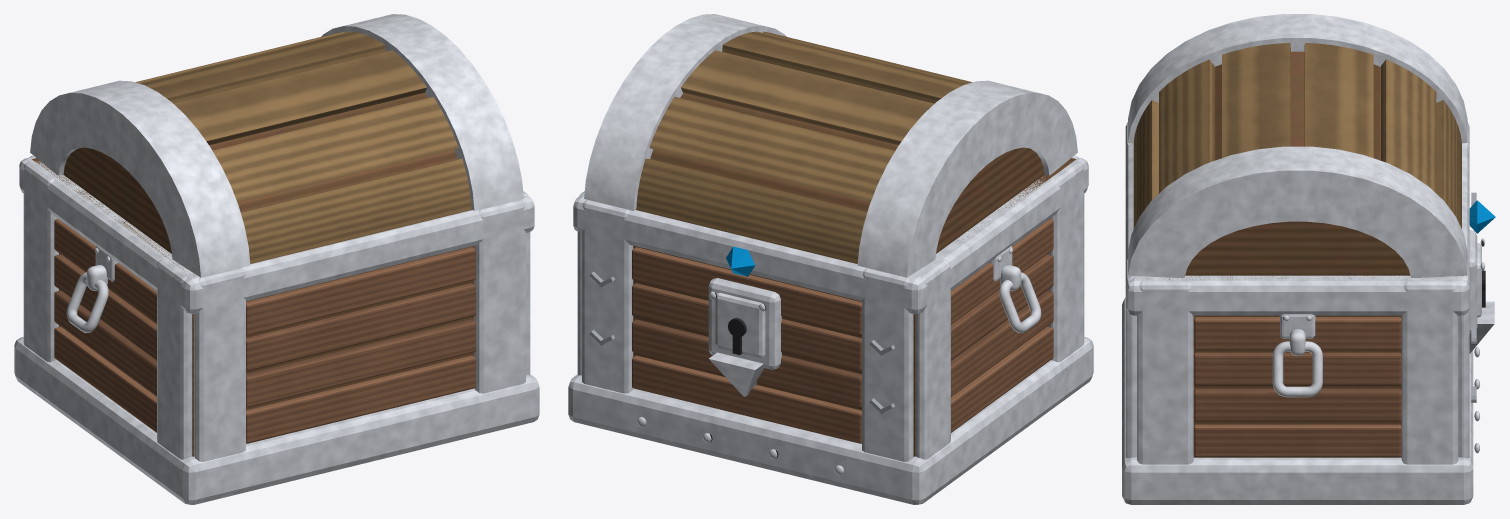
File: SM_Chest_Silver_M_01.glb
3 renders of one model, left to right at view 1: azimuth 30°, elevation 25°; view 2: azimuth 150°, elevation 25°; view 3: azimuth 270°, elevation 25°, orthographic.
Visible parts, largest first — view 1: SM_Chest_Silver_M_01_Body, SM_Chest_Silver_M_01_Lid; view 2: SM_Chest_Silver_M_01_Body, SM_Chest_Silver_M_01_Lid; view 3: SM_Chest_Silver_M_01_Body, SM_Chest_Silver_M_01_Lid.
Part boxes in pixels (x1,y1,x2,y2): SM_Chest_Silver_M_01_Body: [14, 155, 539, 504]; SM_Chest_Silver_M_01_Lid: [30, 14, 523, 277]; SM_Chest_Silver_M_01_Body: [568, 155, 1093, 504]; SM_Chest_Silver_M_01_Lid: [584, 14, 1077, 277]; SM_Chest_Silver_M_01_Body: [1122, 122, 1495, 504]; SM_Chest_Silver_M_01_Lid: [1128, 14, 1467, 277].
Bounding box in the file's own units: 2.45 × 1.93 × 1.98.
Materials: 2 (2 with a texture image).
